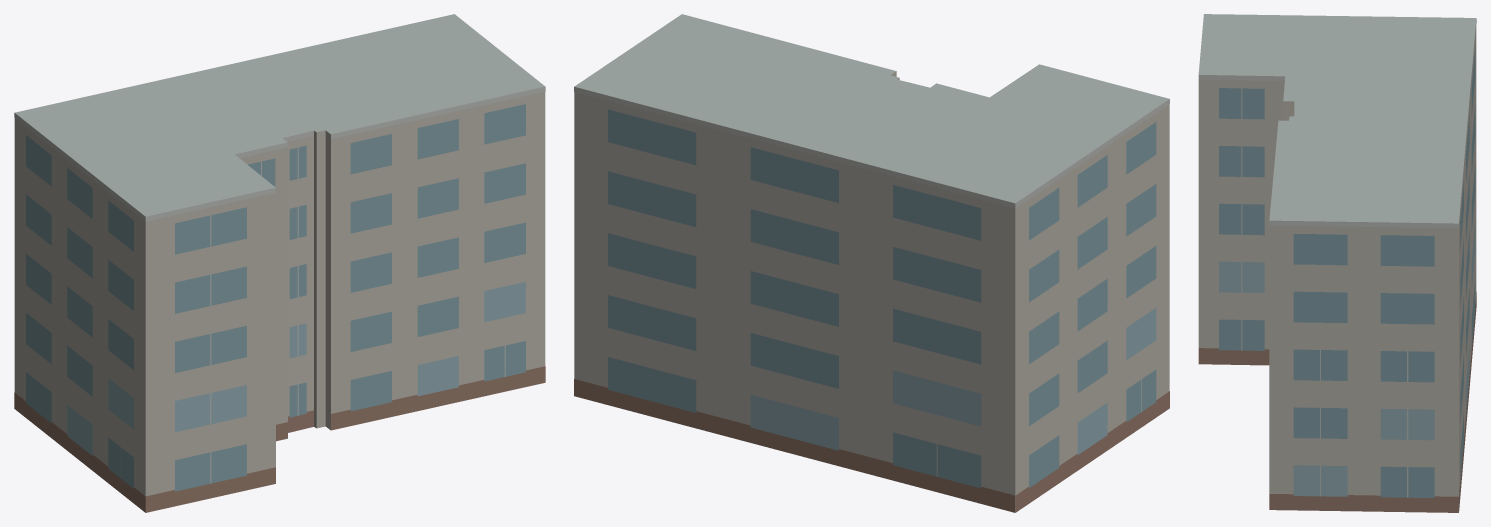
The model's file is survey-upis-32663019.glb.
3 views of the same model, side by side, from view 1: azimuth 30°, elevation 25°; view 2: azimuth 150°, elevation 25°; view 3: azimuth 270°, elevation 25° (orthographic). The views are drawn at different scales.
Visible parts, largest first — view 1: survey-upis-32663019.tmp; view 2: survey-upis-32663019.tmp; view 3: survey-upis-32663019.tmp.
Boxes of the visible parts, x1,y1,x2,y2 form: survey-upis-32663019.tmp: (14,14,545,512); survey-upis-32663019.tmp: (574,14,1169,512); survey-upis-32663019.tmp: (1198,14,1476,512).
Bounding box in the file's own units: 22.53 × 14.5 × 12.63.
